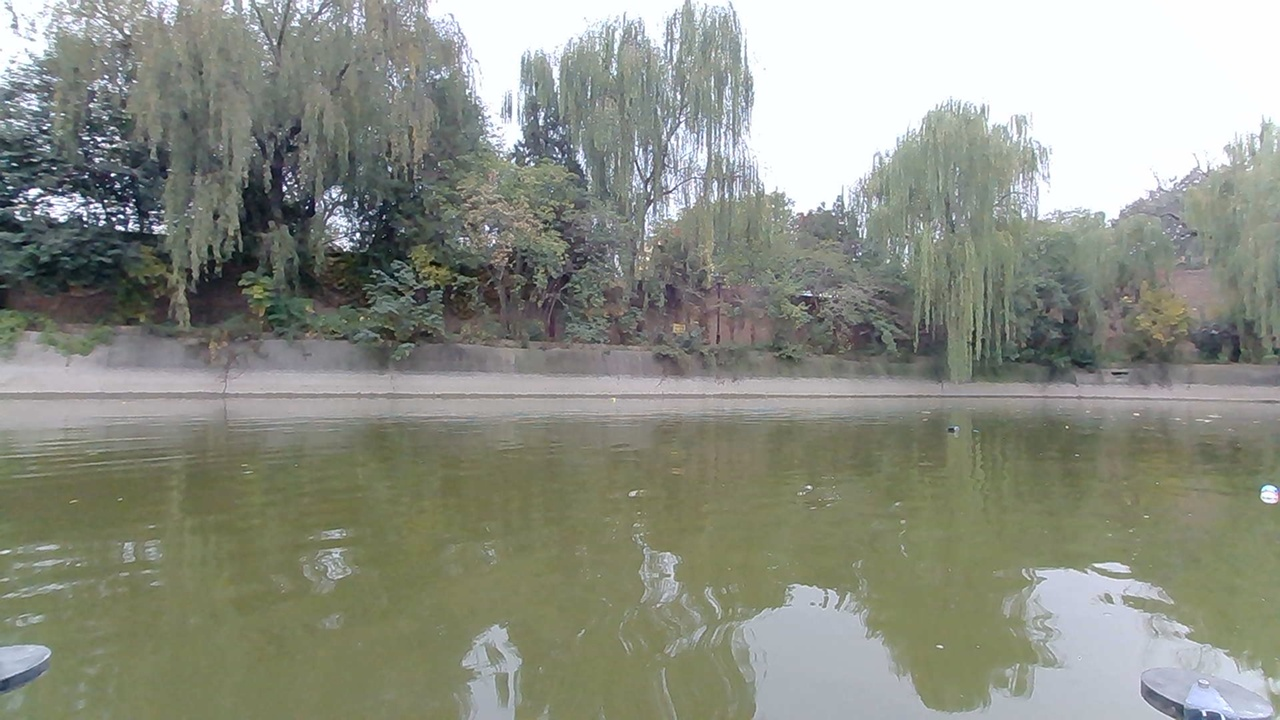bottle: (1236, 477, 1275, 506), (942, 415, 970, 441)
